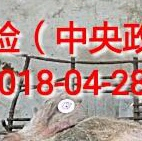text: (51, 90, 82, 121)
